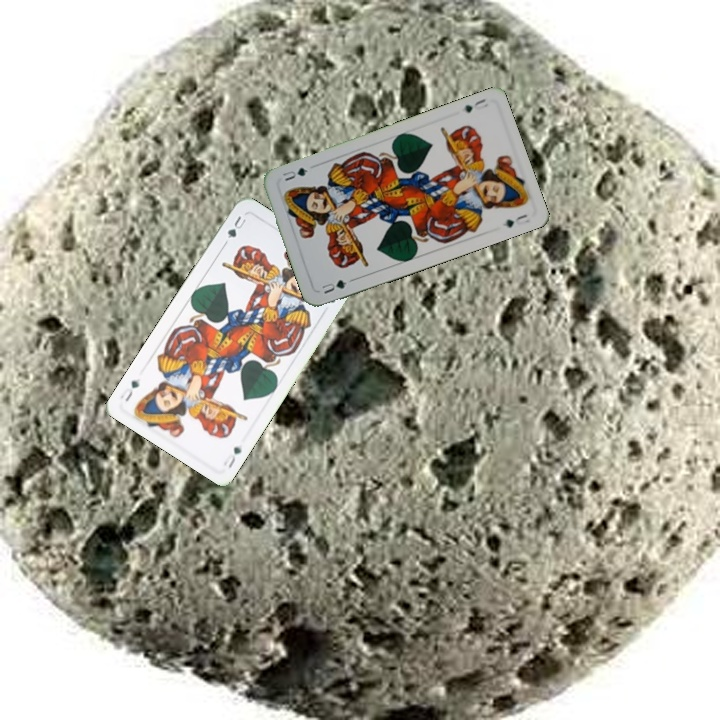GU: (223, 212, 249, 241), (317, 276, 350, 297), (460, 94, 491, 115), (224, 442, 244, 471)
